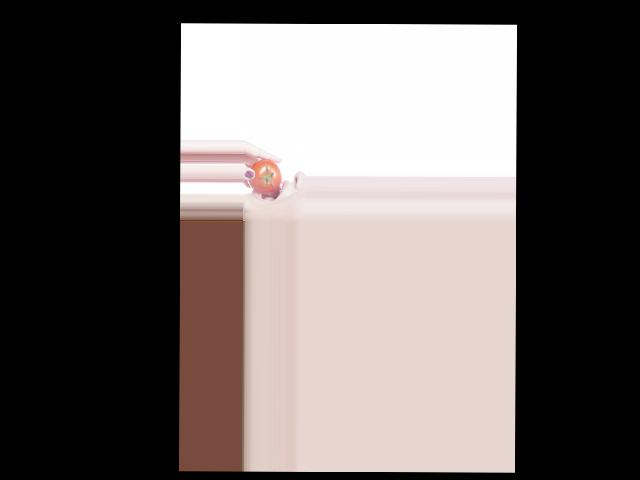tomato: (247, 158, 281, 193)
